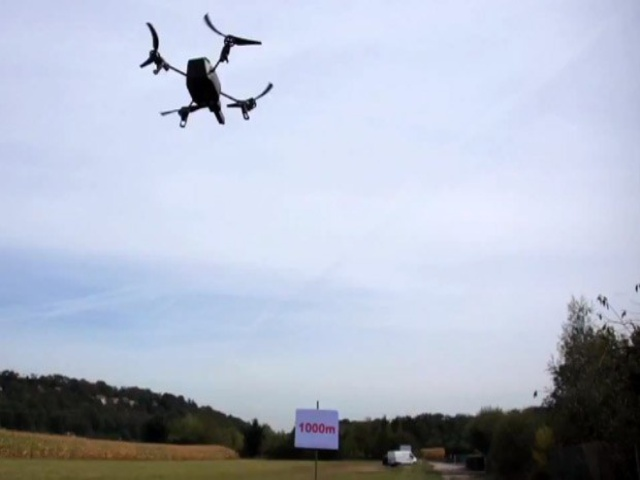drone: (130, 8, 280, 132)
